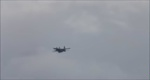maybay_muctieu: (52, 44, 70, 54)
